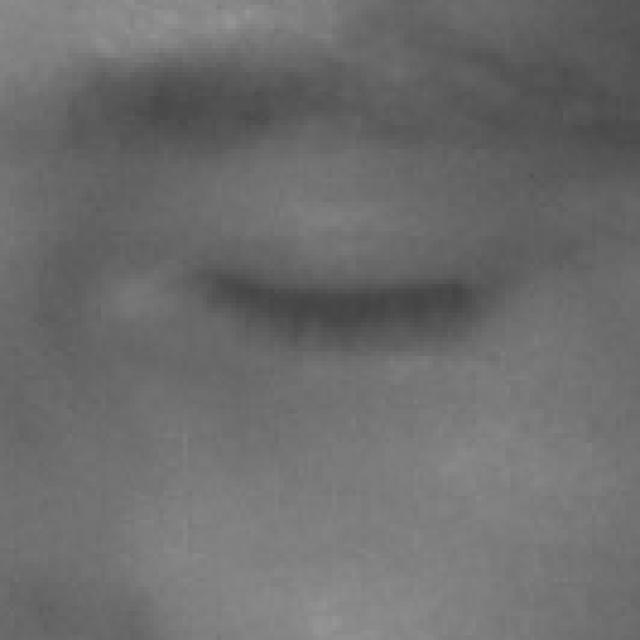Eyeclosed: (190, 155, 485, 498)
